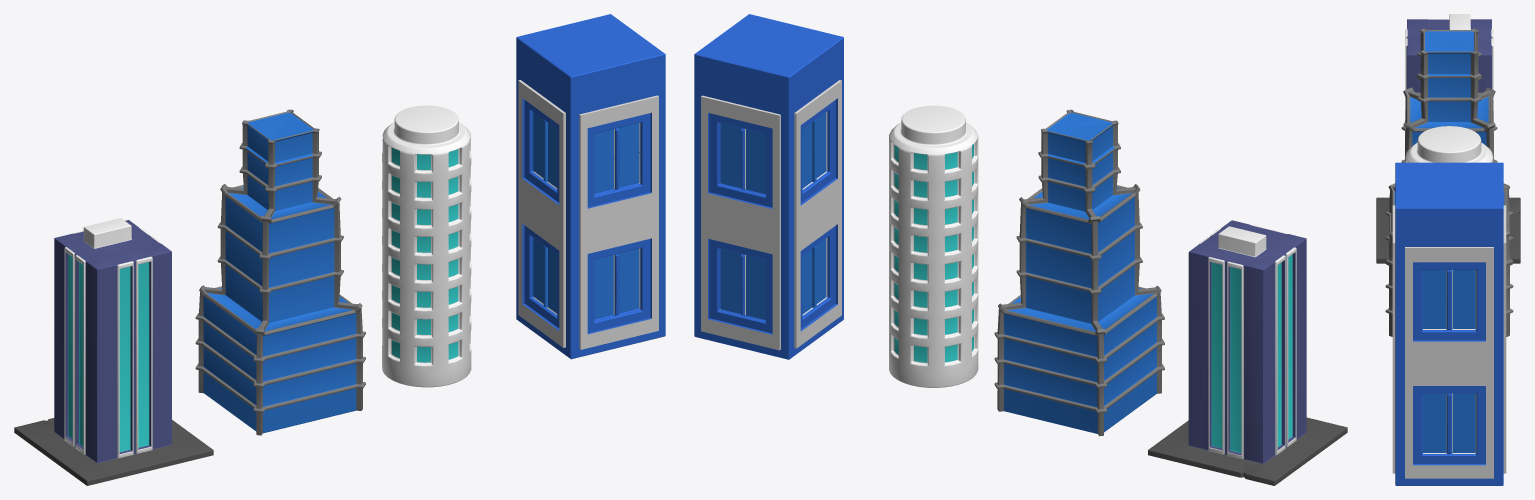
Rendered from Built.fbx.
3 views of the same model, side by side, from view 1: azimuth 30°, elevation 25°; view 2: azimuth 150°, elevation 25°; view 3: azimuth 270°, elevation 25° (orthographic).
Visible parts, largest first — view 1: Cube.005, Cube.004, Cube.001, Cylinder; view 2: Cube.005, Cube.004, Cube.001, Cylinder; view 3: Cube.005, Cube.004, Cube.001, Cylinder.
Boxes of the visible parts, <box> form: Cube.005: <box>516,14,665,359</box>; Cube.004: <box>195,109,365,435</box>; Cube.001: <box>14,218,213,485</box>; Cylinder: <box>382,105,471,387</box>; Cube.005: <box>694,14,843,359</box>; Cube.004: <box>994,109,1164,436</box>; Cube.001: <box>1148,220,1347,485</box>; Cylinder: <box>889,105,978,387</box>; Cube.005: <box>1392,162,1506,485</box>; Cube.004: <box>1385,28,1513,336</box>; Cube.001: <box>1376,14,1520,263</box>; Cylinder: <box>1405,126,1493,162</box>.
Bounding box in the file's own units: 5008 × 2297 × 1075.
